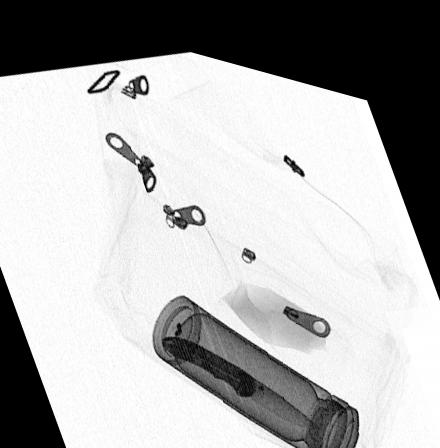Knife: (159, 324, 321, 411)
